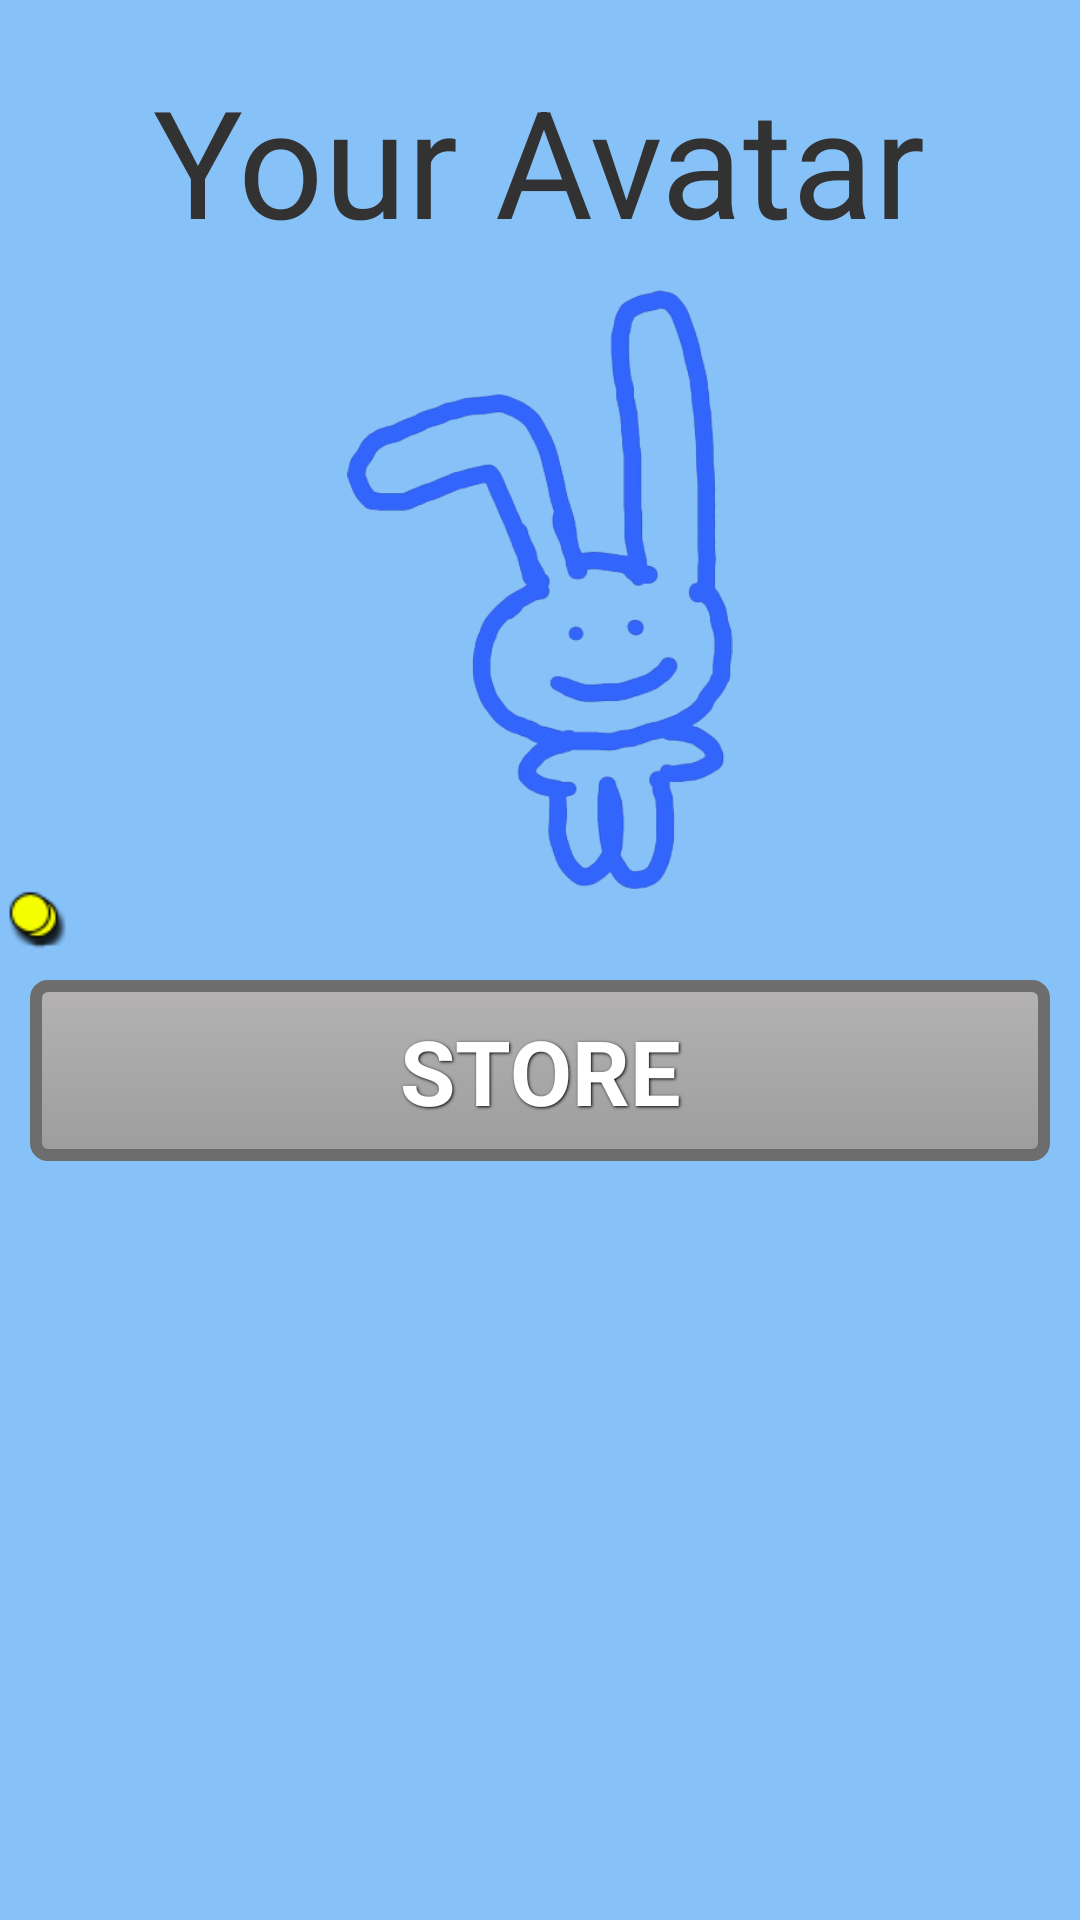

Locate icon controls on the screen. Image size 1080*1920, boxes as Rect(x1, y1, x2, y2).
coin: Rect(9, 891, 65, 948)
